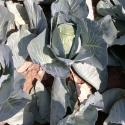cabbage: (51, 19, 90, 57)
